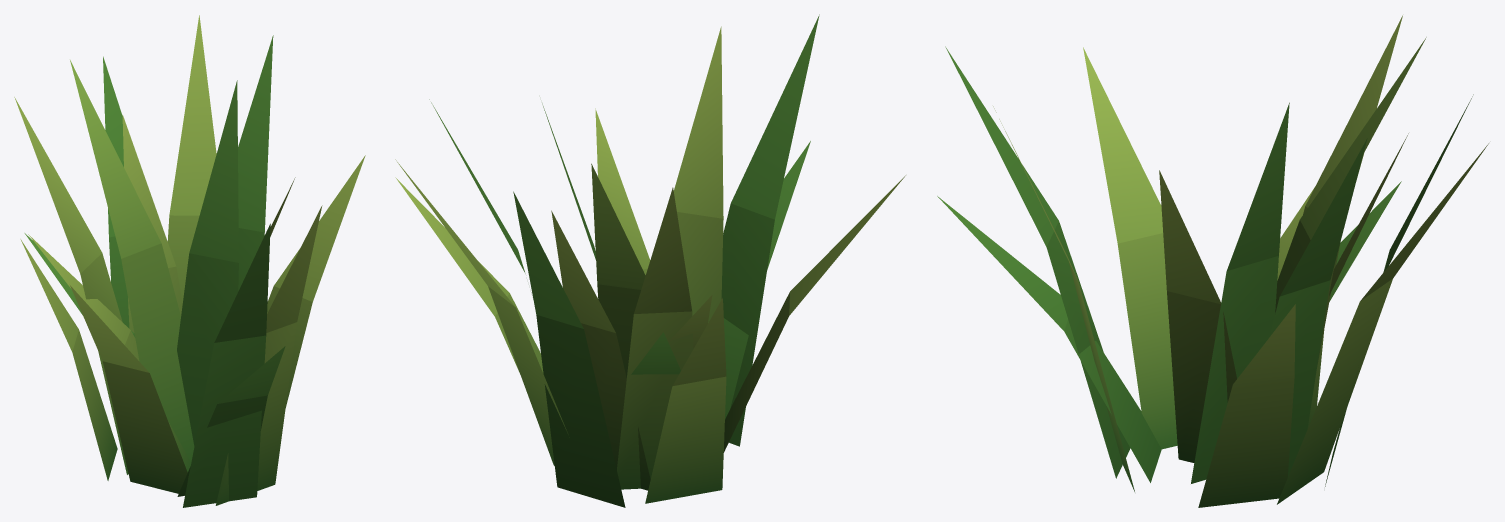
File: prop.grass_tuft.glb
3 renders of one model, left to right at view 1: azimuth 30°, elevation 25°; view 2: azimuth 150°, elevation 25°; view 3: azimuth 270°, elevation 25°, orthographic. The views are drawn at different scales.
Parts seen in each view (by area): view 1: grass_tuft; view 2: grass_tuft; view 3: grass_tuft.
Boxes of the visible parts, <box> form: grass_tuft: <box>14,15,365,507</box>; grass_tuft: <box>395,14,905,507</box>; grass_tuft: <box>937,15,1488,507</box>.
Size of the model in its own units: 0.5707 by 0.4978 by 0.6069.
